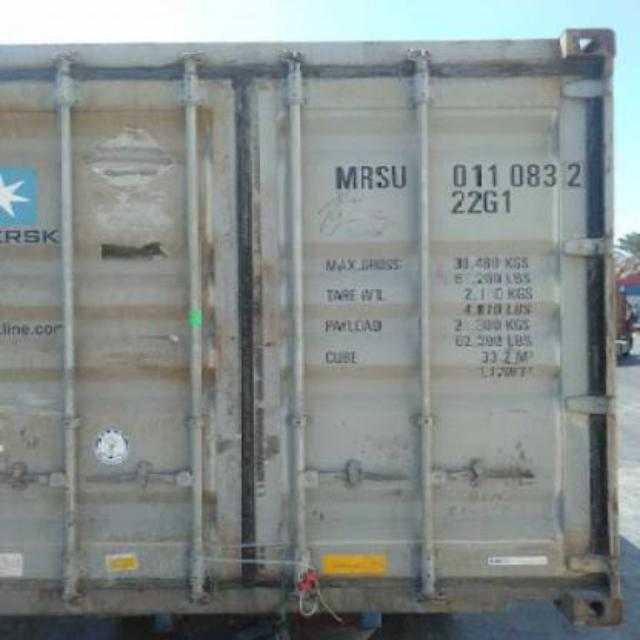0: (450, 157, 468, 187), (508, 158, 526, 188)
1: (484, 156, 502, 188), (468, 156, 484, 188)
2: (566, 159, 584, 189)
3: (542, 154, 558, 190)
8: (524, 156, 540, 188)
M: (330, 162, 358, 190)
R: (358, 162, 374, 192)
S: (372, 161, 390, 193)
U: (390, 156, 410, 190)
